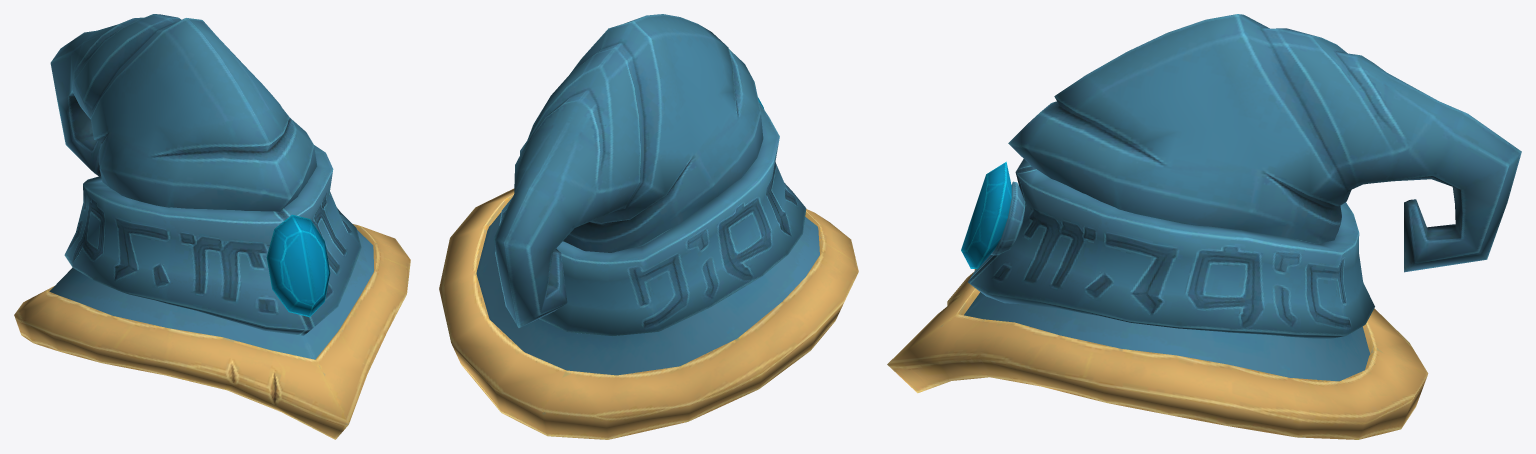
Rendered from Wizard.fbx.
The picture shows the model from 3 angles, left to right: view 1: azimuth 30°, elevation 25°; view 2: azimuth 150°, elevation 25°; view 3: azimuth 270°, elevation 25°; orthographic projection. The views are drawn at different scales.
Parts seen in each view (by area): view 1: node_id39; view 2: node_id39; view 3: node_id39.
Boxes of the visible parts, bbox=[...] form: node_id39: bbox=[14, 14, 410, 439]; node_id39: bbox=[439, 14, 858, 439]; node_id39: bbox=[887, 14, 1521, 439].
Bounding box in the file's own units: 0.512 × 0.4773 × 0.7023.
1 material, 1 textured.
